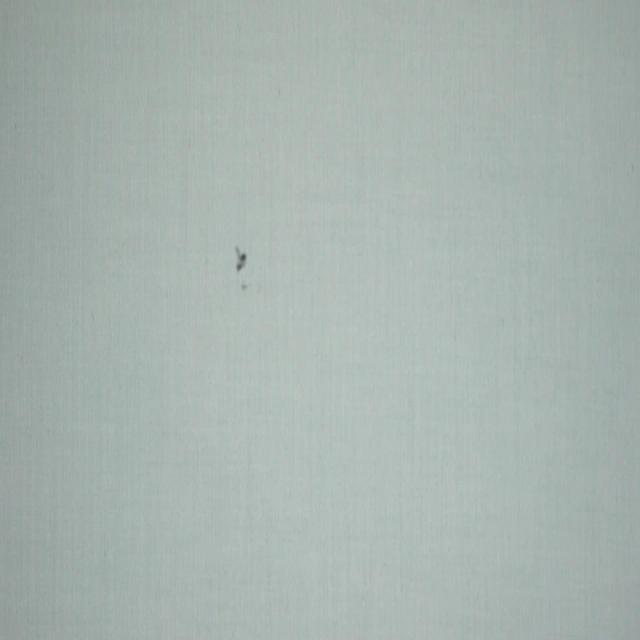dirty: (232, 246, 248, 272), (241, 280, 247, 294)
